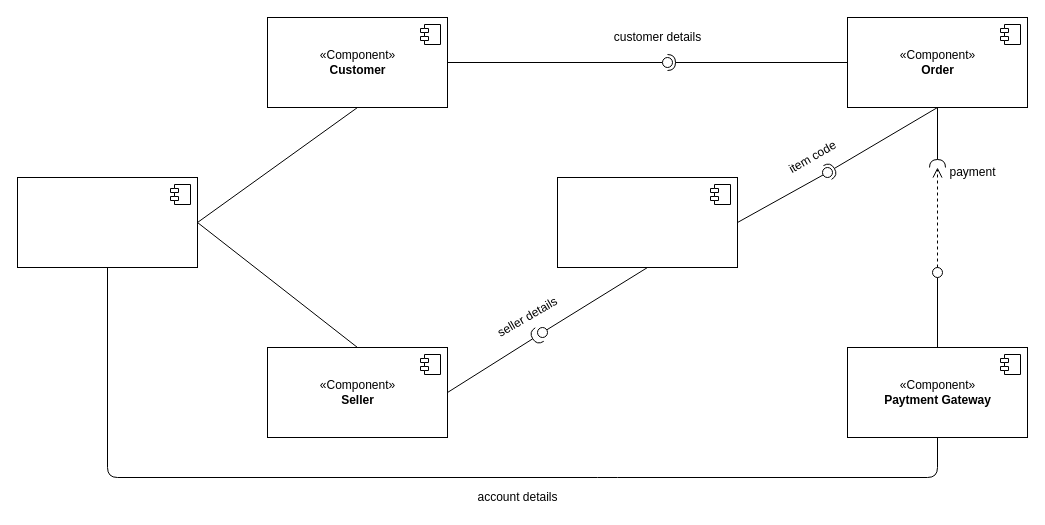
This 1045x525 diagram has some shape labels left out. Each missing label, with the centre of its shape:
«Component» Account: point 107,222
«Component» Product: point 647,222
